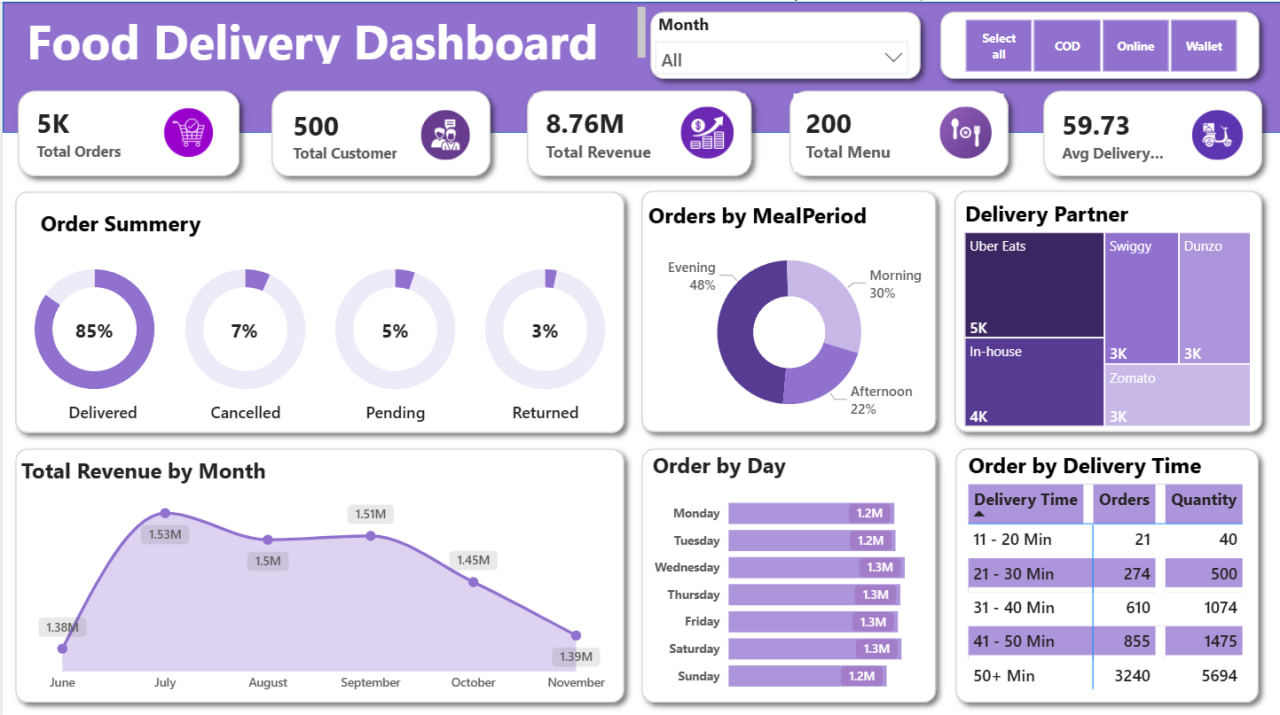

Layout of this report page (visuals, bound fields, positions):
{"tool":"powerbi","page":{"name":"Page 1","canvas":[1280,720],"ordinal":0},"visuals":[{"type":"shape","box":[0,0,1280,200],"z":0},{"type":"shape","box":[12.9,272.5,630,220],"z":1000},{"type":"shape","box":[642.9,273.8,315,220],"z":2000},{"type":"shape","box":[958.2,266.4,314.5,220],"z":3000},{"type":"cardVisual","fields":{"Data":["1_Measures.Total Order","1_Measures.Total Customer","1_Measures.Total Revenue","1_Measures.Total Menu Items","1_Measures.Avg Delivery Time"]},"box":[0,120.9,1280,165.5],"z":4000},{"type":"shape","box":[10,500,630,220],"z":5000},{"type":"shape","box":[643.3,500,315,220],"z":6000},{"type":"shape","box":[958.3,500,315,220],"z":7000},{"type":"donutChart","fields":{"Y":["1_Measures.Status_Delivered","1_Measures.Other_Delivered"]},"box":[30,300,154.3,155.7],"z":8000},{"type":"donutChart","fields":{"Y":["1_Measures.Status_Cancelled","1_Measures.Other_Cancelled"]},"box":[176,296,158,158],"z":9000},{"type":"donutChart","fields":{"Y":["1_Measures.Status_Pending","1_Measures.Other_Pending"]},"box":[324,296,158,158],"z":10000},{"type":"donutChart","fields":{"Y":["1_Measures.Status_Returned","1_Measures.Other_Returned"]},"box":[466,296,158,158],"z":11000},{"type":"textbox","box":[62.5,438.8,83.8,35],"z":12000},{"type":"textbox","box":[212.5,438.8,83.8,35],"z":13000},{"type":"textbox","box":[361.2,437.5,83.8,35],"z":14000},{"type":"textbox","box":[502.5,438.8,83.8,35],"z":15000},{"type":"cardVisual","fields":{"Data":["1_Measures.%_Delivered"]},"box":[62.9,315.7,101.4,121.4],"z":16000},{"type":"cardVisual","fields":{"Data":["1_Measures.%_Cancelled"]},"box":[218.8,313.8,101.2,121.2],"z":17000},{"type":"cardVisual","fields":{"Data":["1_Measures.%_Pending"]},"box":[362,314,104,122],"z":18000},{"type":"cardVisual","fields":{"Data":["1_Measures.%_Return"]},"box":[507.1,312.9,101.4,121.4],"z":19000},{"type":"areaChart","fields":{"Category":["Orders.Order_Date.Variation.Date Hierarchy.Month"],"Y":["1_Measures.Total Revenue"]},"box":[36.4,515.5,588.2,197.3],"z":20000},{"type":"textbox","box":[39.1,280.9,145.5,28.2],"z":21000},{"type":"donutChart","title":"Order by MealPeriod","fields":{"Category":["Orders.MealPeriod"],"Y":["1_Measures.Total Order"]},"box":[670,290.9,273.6,185.5],"z":22000},{"type":"treemap","title":"Order by DeliveryPartner","fields":{"Group":["Orders.Delivery_Partner"],"Values":["1_Measures.Total Order"]},"box":[985.5,280.9,263.6,190.9],"z":23000},{"type":"clusteredBarChart","title":"Total Sales by Day","fields":{"Category":["Orders.DayName"],"Y":["1_Measures.Total Revenue"]},"box":[670,515,297.5,196.2],"z":24000},{"type":"pivotTable","title":"Order by Deliver Time","fields":{"Rows":["Orders.Time Category"],"Values":["Count(Orders.Order_ID)","Sum(Order_Items.Quantity)"]},"box":[984,515,296,205],"z":25000},{"type":"textbox","box":[6,30,476,58],"z":26000},{"type":"shape","box":[517.1,0,347.1,110],"z":27000},{"type":"slicer","fields":{"Values":["Orders.Order_Date.Variation.Date Hierarchy.Month"]},"box":[531.4,14.3,317.1,81.4],"z":28000},{"type":"shape","box":[902.9,1.4,347.1,110],"z":29000},{"type":"advancedSlicerVisual","title":"Payment Mode","fields":{"Values":["Orders.Payment_Mode"]},"box":[920,17.1,312.9,81.4],"z":30000},{"type":"image","box":[146,162,90,78],"z":30001},{"type":"image","box":[408,162,90,78],"z":30002},{"type":"image","box":[658,162,90,78],"z":30003},{"type":"image","box":[906,162,90,78],"z":30004},{"type":"image","box":[1168,160,76,80],"z":30005}]}

Visuals, with their boxes in screenshot pixels (x1, y1, x2, y2), scaled from the page's 1280x720 canvas onto the 1280x715 screenshot:
shape: <region>0, 0, 1279, 199</region>
shape: <region>13, 271, 643, 489</region>
shape: <region>643, 272, 958, 490</region>
shape: <region>958, 265, 1273, 483</region>
cardVisual - 1_Measures.Total Order x 1_Measures.Total Customer: <region>0, 120, 1279, 284</region>
shape: <region>10, 497, 640, 714</region>
shape: <region>643, 497, 958, 714</region>
shape: <region>958, 497, 1273, 714</region>
donutChart - 1_Measures.Status_Delivered x 1_Measures.Other_Delivered: <region>30, 298, 184, 453</region>
donutChart - 1_Measures.Status_Cancelled x 1_Measures.Other_Cancelled: <region>176, 294, 334, 451</region>
donutChart - 1_Measures.Status_Pending x 1_Measures.Other_Pending: <region>324, 294, 482, 451</region>
donutChart - 1_Measures.Status_Returned x 1_Measures.Other_Returned: <region>466, 294, 624, 451</region>
textbox: <region>62, 436, 146, 471</region>
textbox: <region>212, 436, 296, 471</region>
textbox: <region>361, 434, 445, 469</region>
textbox: <region>502, 436, 586, 471</region>
cardVisual - 1_Measures.%_Delivered: <region>63, 314, 164, 434</region>
cardVisual - 1_Measures.%_Cancelled: <region>219, 312, 320, 432</region>
cardVisual - 1_Measures.%_Pending: <region>362, 312, 466, 433</region>
cardVisual - 1_Measures.%_Return: <region>507, 311, 608, 431</region>
areaChart - Orders.Order_Date.Variation.Date Hierarchy.Month x 1_Measures.Total Revenue: <region>36, 512, 625, 708</region>
textbox: <region>39, 279, 185, 307</region>
"Order by MealPeriod" donutChart: <region>670, 289, 944, 473</region>
"Order by DeliveryPartner" treemap: <region>986, 279, 1249, 469</region>
"Total Sales by Day" clusteredBarChart: <region>670, 511, 968, 706</region>
"Order by Deliver Time" pivotTable: <region>984, 511, 1279, 714</region>
textbox: <region>6, 30, 482, 87</region>
shape: <region>517, 0, 864, 109</region>
slicer - Orders.Order_Date.Variation.Date Hierarchy.Month: <region>531, 14, 848, 95</region>
shape: <region>903, 1, 1250, 111</region>
"Payment Mode" advancedSlicerVisual: <region>920, 17, 1233, 98</region>
image: <region>146, 161, 236, 238</region>
image: <region>408, 161, 498, 238</region>
image: <region>658, 161, 748, 238</region>
image: <region>906, 161, 996, 238</region>
image: <region>1168, 159, 1244, 238</region>
